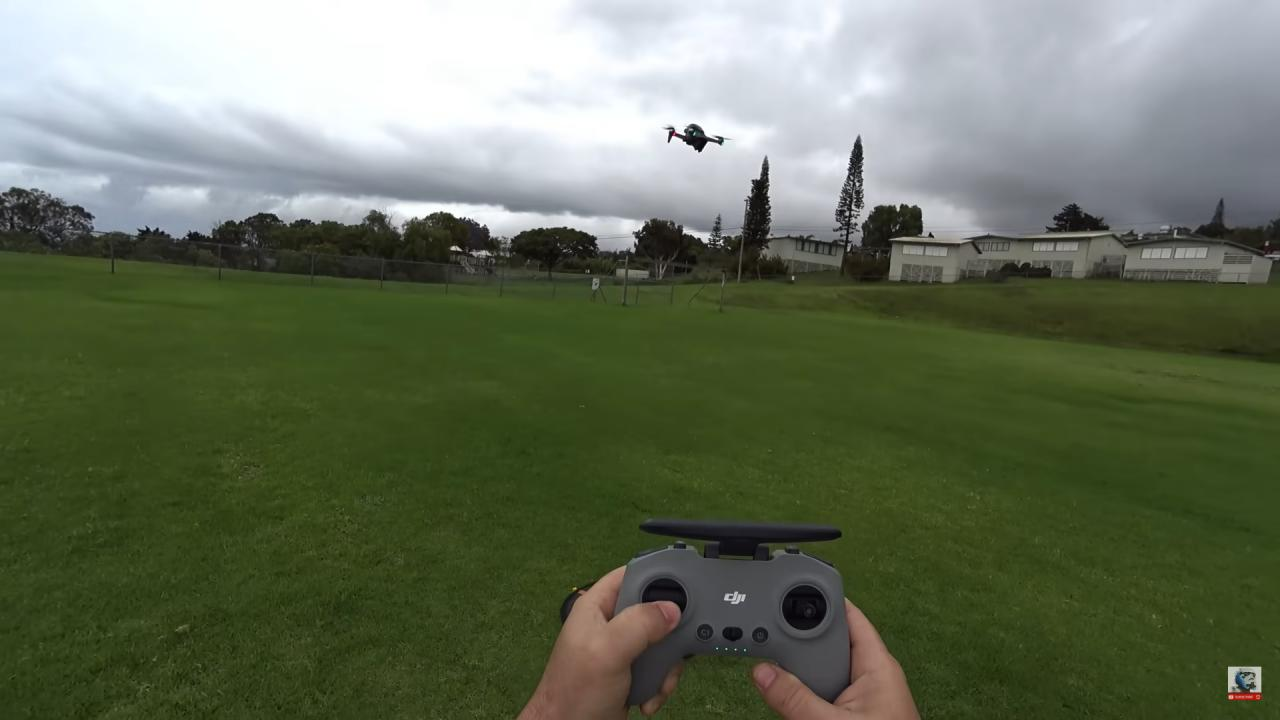Drone: (646, 105, 744, 168)
